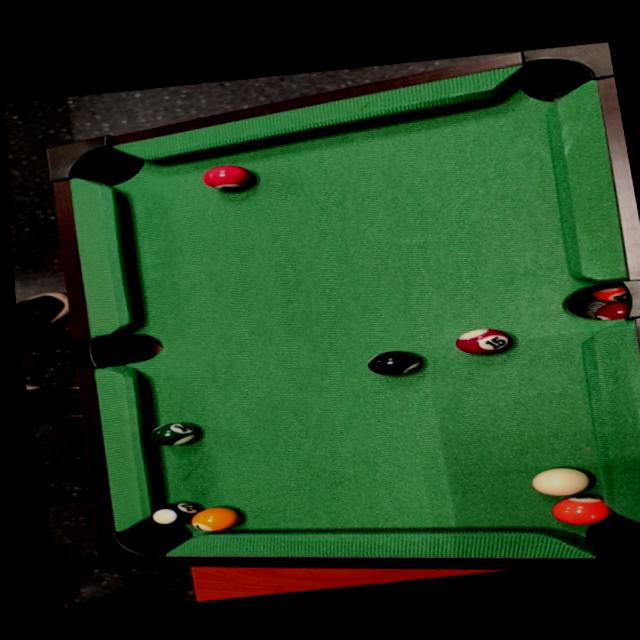cue ball: (527, 461, 597, 500)
other: (548, 488, 615, 530), (450, 322, 518, 357), (360, 345, 427, 380), (187, 500, 246, 537), (194, 159, 257, 193), (144, 415, 201, 449), (148, 495, 202, 529)
